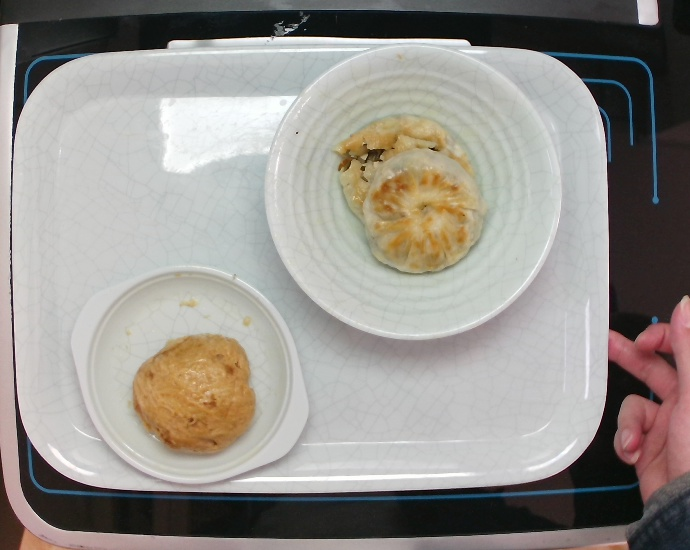JYsf-Shuang_Er_Pan: (72, 259, 314, 487)
JYsf-Xiao_Tang_Wan: (264, 42, 567, 346)
